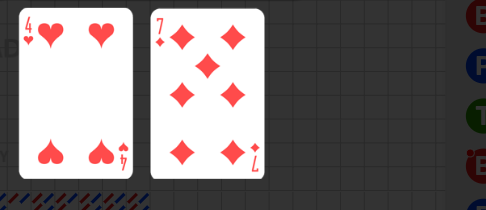4H: (22, 16, 35, 48)
7D: (249, 142, 261, 174)
